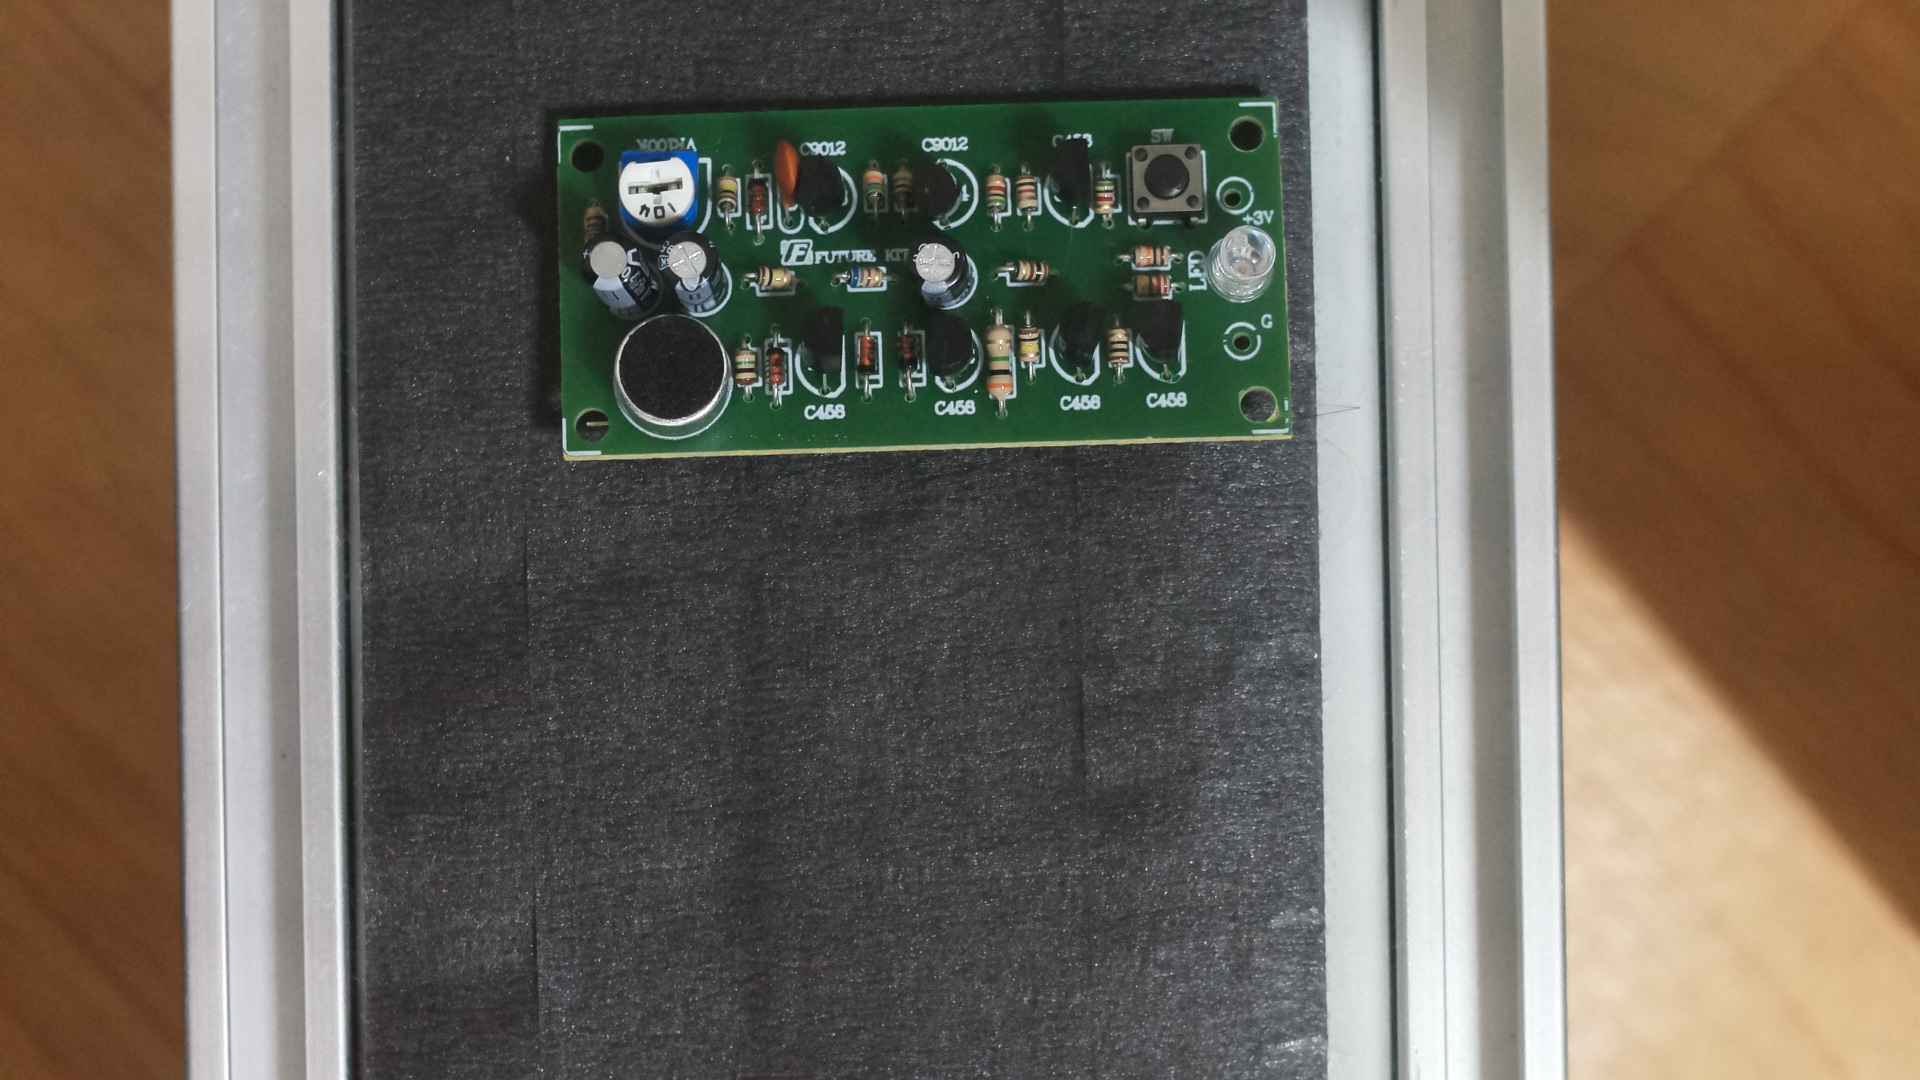A_Normal: (538, 87, 1302, 467)
